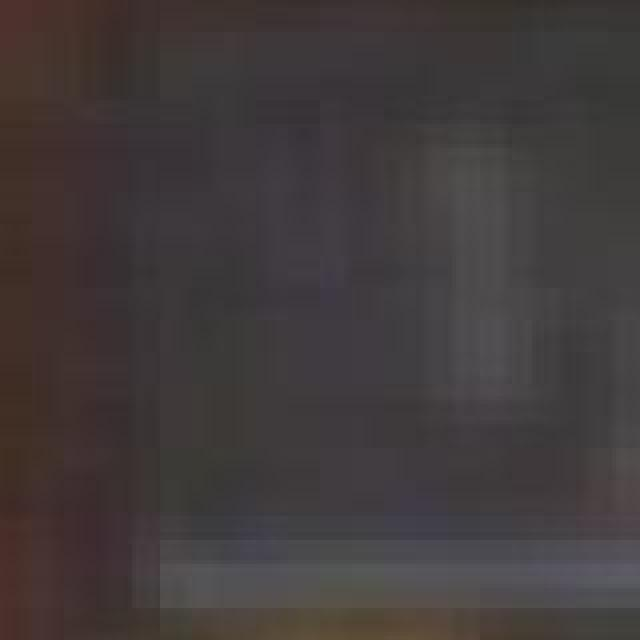transistor: (104, 0, 640, 640)
